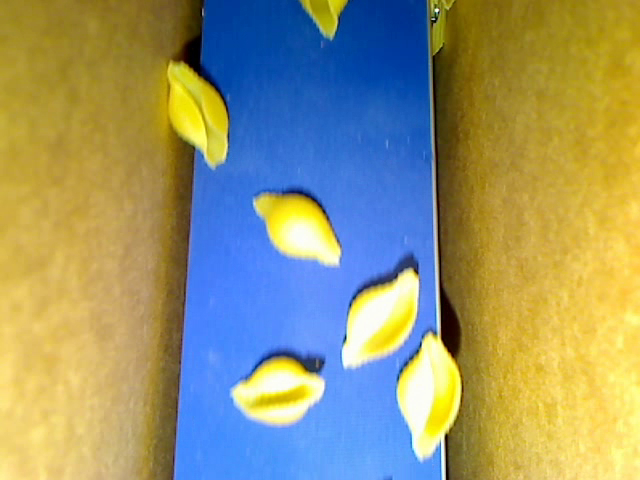penne: (429, 1, 444, 57), (440, 1, 459, 13)
shell: (395, 329, 461, 460), (343, 265, 421, 367), (163, 58, 231, 172), (250, 186, 339, 268), (228, 356, 325, 429), (297, 1, 353, 45)
